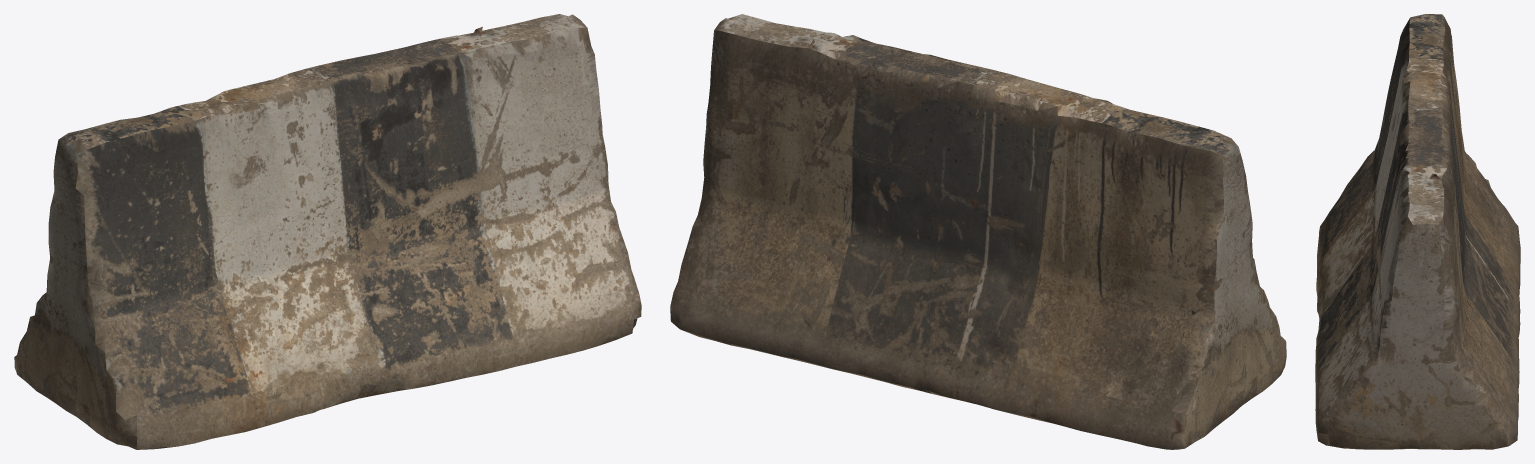
The model's file is real_barrier.glb.
3 views of the same model, side by side, from view 1: azimuth 30°, elevation 25°; view 2: azimuth 150°, elevation 25°; view 3: azimuth 270°, elevation 25° (orthographic). The views are drawn at different scales.
Visible parts, largest first — view 1: real_barrier; view 2: real_barrier; view 3: real_barrier.
Boxes of the visible parts, box(x1,y1,x2,y2) form: real_barrier: box(14, 14, 641, 449); real_barrier: box(670, 14, 1286, 449); real_barrier: box(1315, 14, 1520, 449).
Bounding box in the file's own units: 1.54 × 0.8197 × 0.6265.
Materials: 1 (1 with a texture image).
